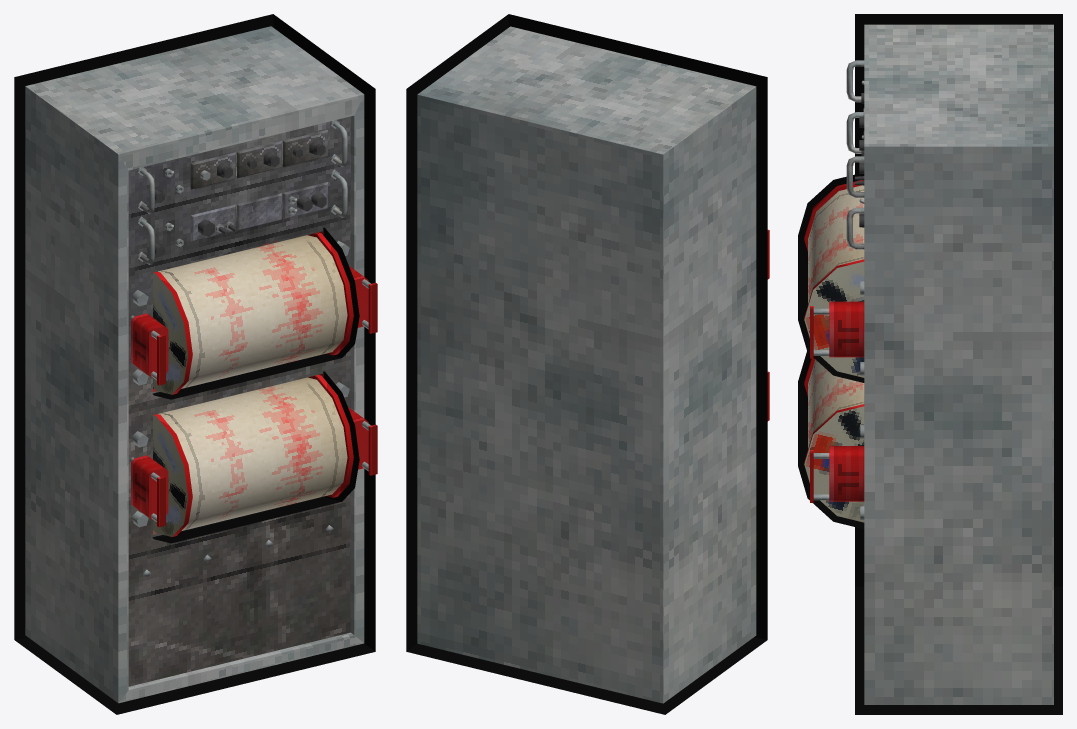
File: RadioPrinter.glb
The picture shows the model from 3 angles, left to right: view 1: azimuth 30°, elevation 25°; view 2: azimuth 150°, elevation 25°; view 3: azimuth 270°, elevation 25°; orthographic projection.
Visible parts, largest first — view 1: RadioPrinter; view 2: RadioPrinter; view 3: RadioPrinter.
Part boxes in pixels (bbox=[...]): RadioPrinter: bbox=[14, 14, 377, 714]; RadioPrinter: bbox=[406, 14, 769, 714]; RadioPrinter: bbox=[798, 14, 1062, 714].
Size of the model in its own units: 0.8915 by 1.85 by 0.7768.
Materials: 2 (1 with a texture image).
